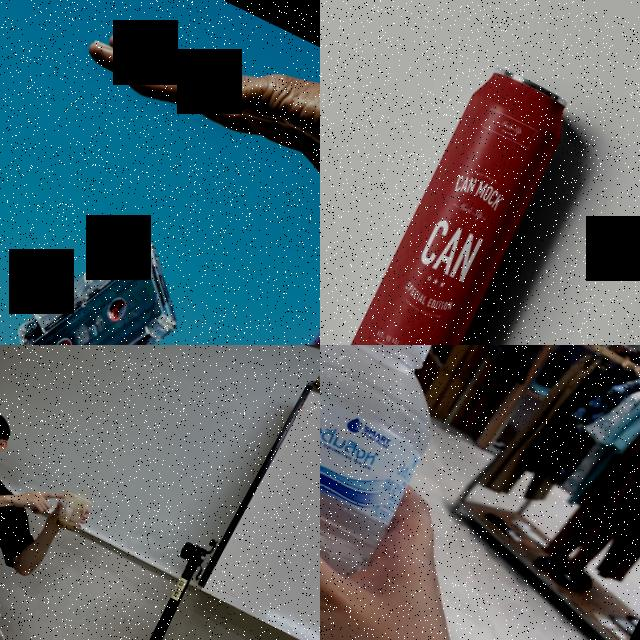bottle: (320, 345, 480, 640)
can: (320, 57, 580, 345)
cup: (48, 484, 94, 535)
